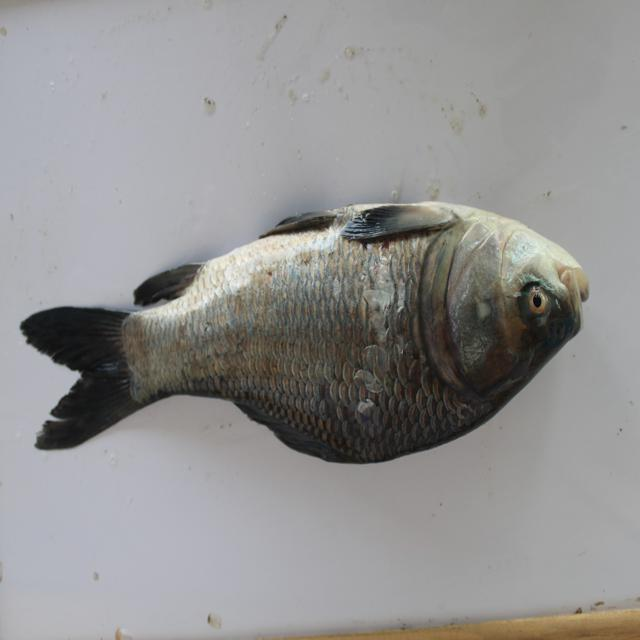Catla: (14, 200, 600, 479)
